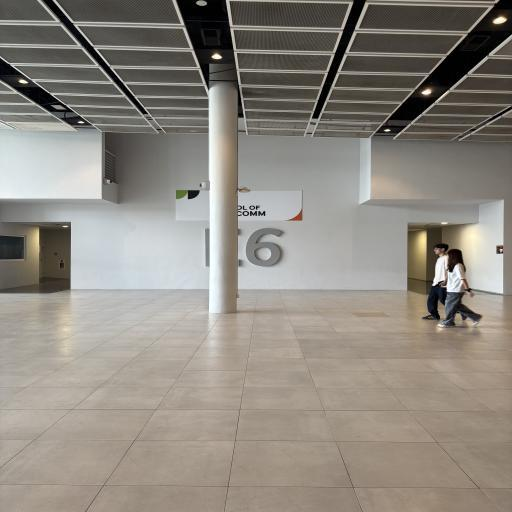person_left: (440, 248, 483, 335), (424, 241, 452, 320)
